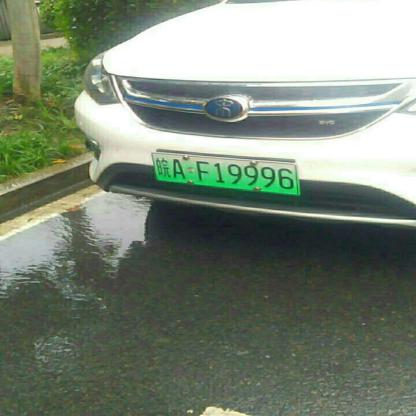lp: (151, 153, 299, 197)
